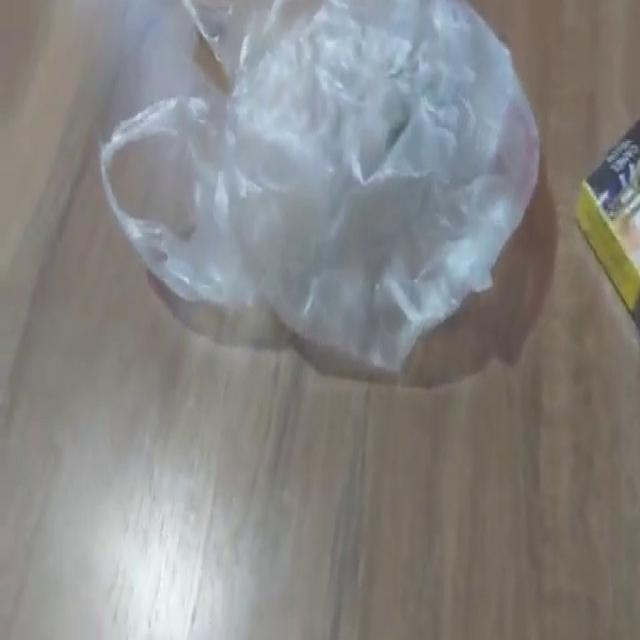Anorganik: (95, 2, 545, 381)
